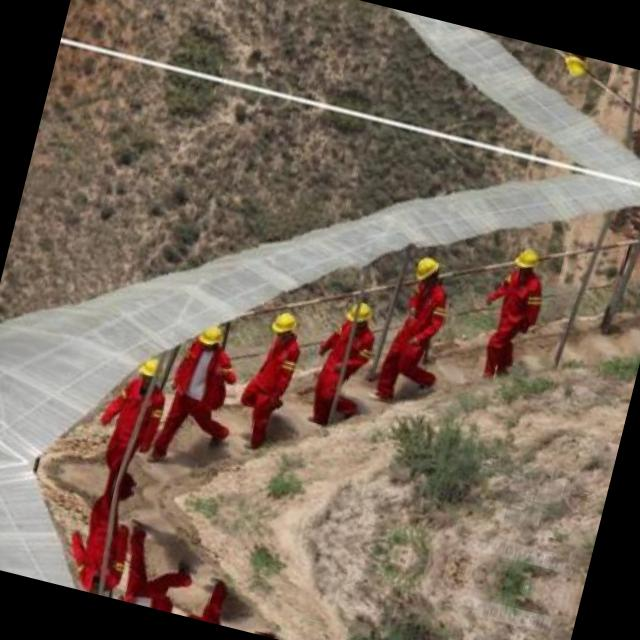helmet: (133, 351, 165, 388), (411, 252, 442, 286), (342, 296, 376, 325), (512, 244, 542, 276), (560, 51, 592, 80), (268, 308, 296, 340), (196, 322, 223, 352), (82, 580, 110, 594)
